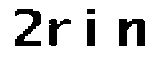2: (10, 5, 45, 53)
i: (85, 4, 100, 50)
n: (118, 13, 148, 49)
r: (47, 13, 73, 48)
